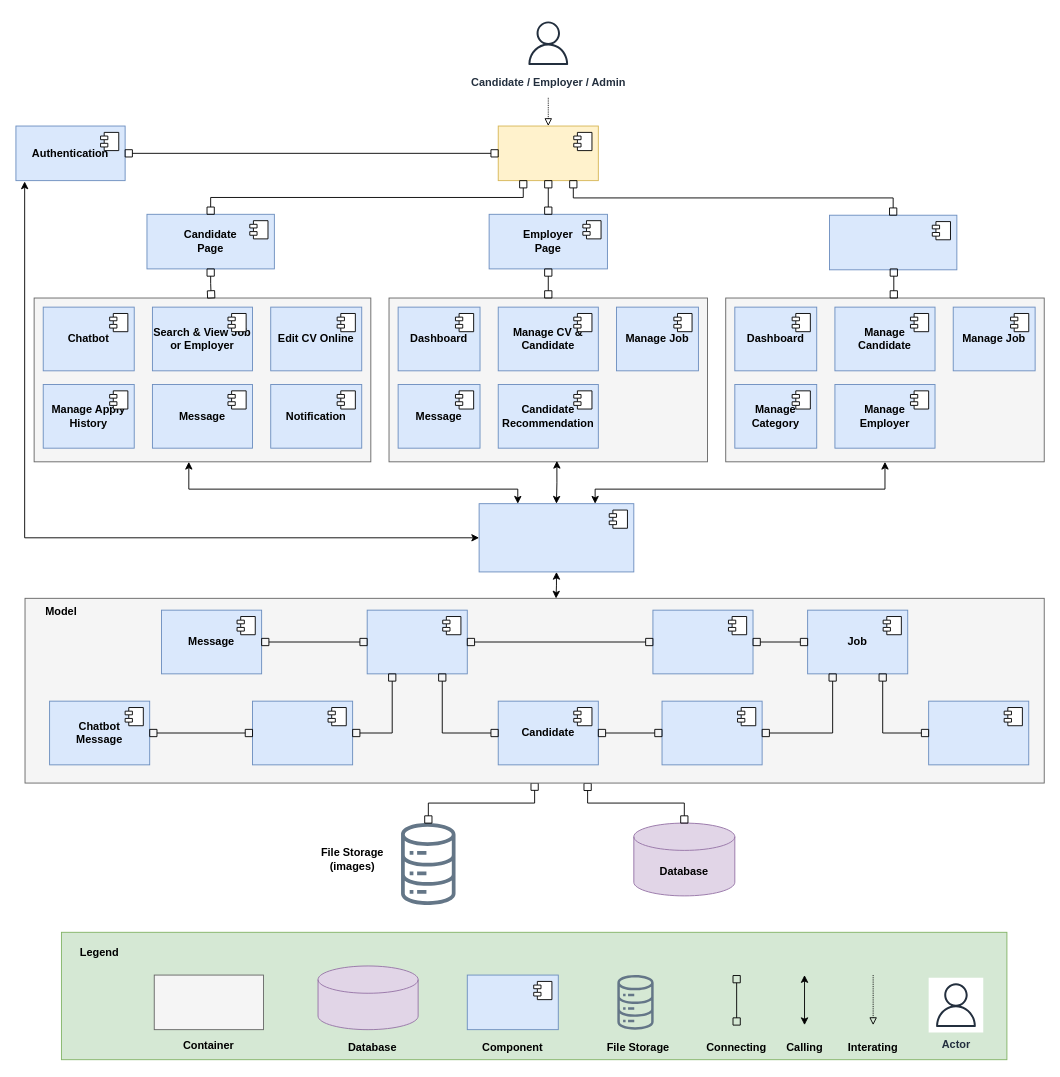
This 1060x1077 diagram has some shape labels left out. Each missing label, with the centre of its shape:
"Admin Page" belongs at pixel 893 242.
"API Gateway" belongs at pixel 556 537.
"Apply" belongs at pixel 711 732.
"Category" belongs at pixel 978 732.
"Chatbot Conversation" belongs at pixel 302 732.
"Employer" belongs at pixel 702 641.
"Main Web UI" belongs at pixel 547 153.
"User" belongs at pixel 416 641.
